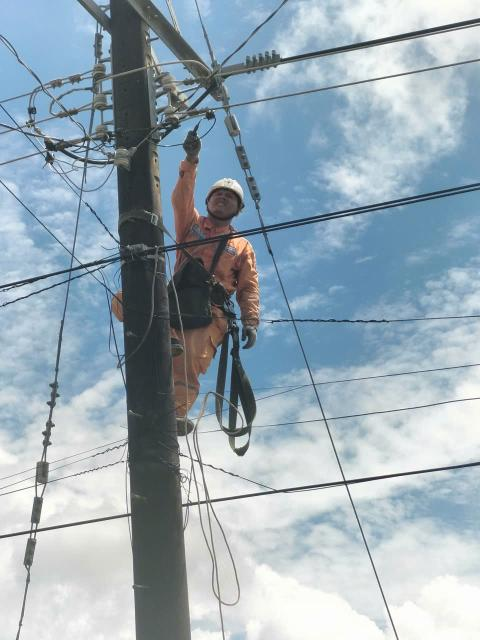gloves: (177, 129, 211, 166), (234, 319, 262, 350)
harness: (169, 269, 247, 319)
helmet: (211, 171, 251, 207)
